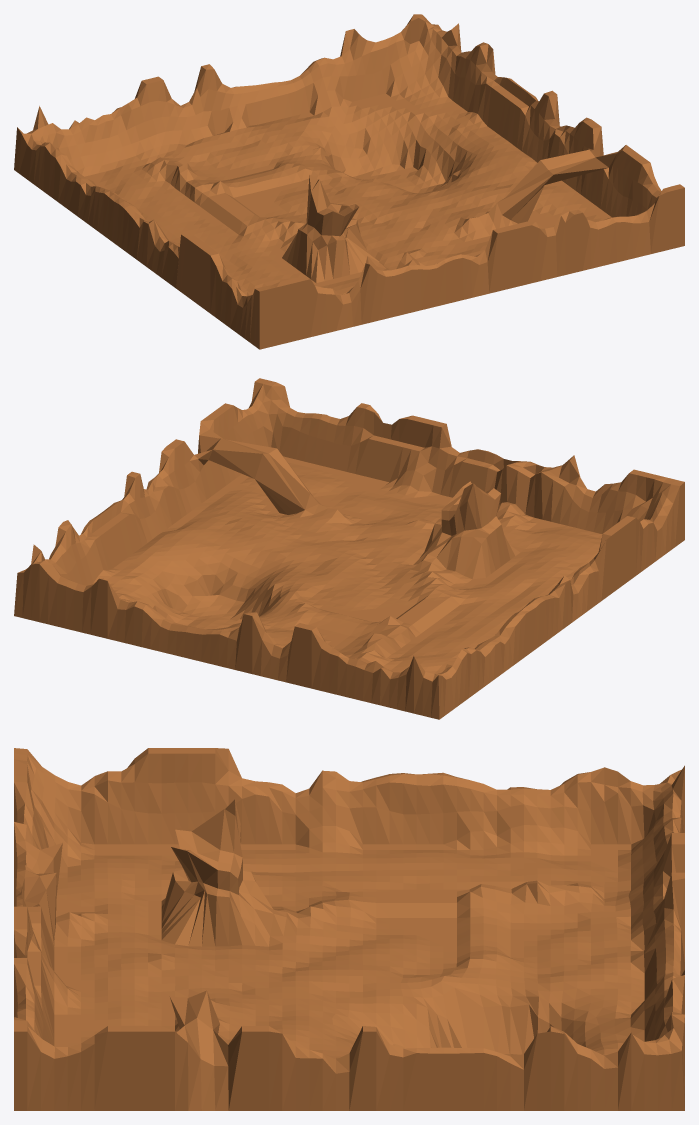
Rendered from terrain_level_1.fbx.
3 renders of one model, top to bottom at view 1: azimuth 30°, elevation 25°; view 2: azimuth 150°, elevation 25°; view 3: azimuth 270°, elevation 25°, orthographic. The views are drawn at different scales.
Parts seen in each view (by area): view 1: Plane; view 2: Plane; view 3: Plane.
Boxes of the visible parts, left/top/right/bottom form: Plane: left=14, top=14, right=684, bottom=349; Plane: left=14, top=378, right=684, bottom=719; Plane: left=14, top=748, right=684, bottom=1110.
Bounding box in the file's own units: 14857 × 4123 × 14857.
